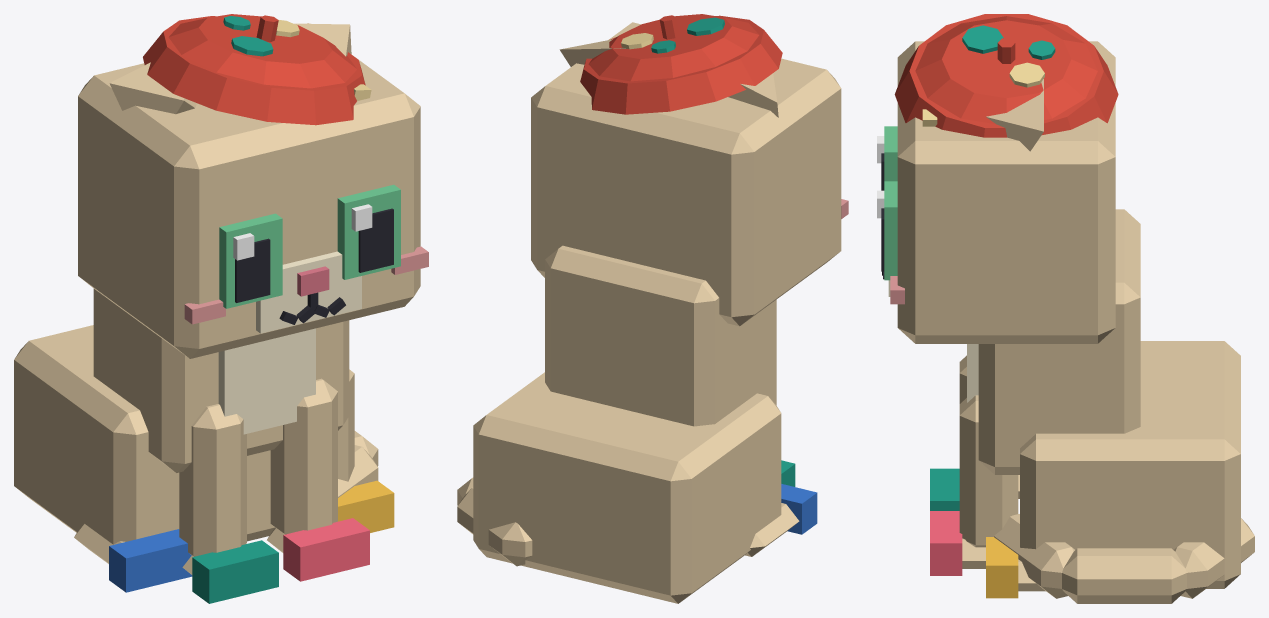
File: CatCafe_Cat_Fold_Sit.glb
The picture shows the model from 3 angles, left to right: view 1: azimuth 30°, elevation 25°; view 2: azimuth 150°, elevation 25°; view 3: azimuth 270°, elevation 25°; orthographic projection. The views are drawn at different scales.
Visible parts, largest first — view 1: CatCafe_Cat_Fold_Sit_Head, CatCafe_Cat_Fold_Sit_Body, CatCafe_Cat_Fold_Sit_Prop, CatCafe_Cat_Fold_Sit_LegF2, CatCafe_Cat_Fold_Sit_LegF1, CatCafe_Cat_Fold_Sit_Eye2, CatCafe_Cat_Fold_Sit_Eye1, CatCafe_Cat_Fold_Sit_EarR, CatCafe_Cat_Fold_Sit_Tail, CatCafe_Cat_Fold_Sit_EarL; view 2: CatCafe_Cat_Fold_Sit_Body, CatCafe_Cat_Fold_Sit_Head, CatCafe_Cat_Fold_Sit_Prop, CatCafe_Cat_Fold_Sit_Tail, CatCafe_Cat_Fold_Sit_EarR, CatCafe_Cat_Fold_Sit_EarL; view 3: CatCafe_Cat_Fold_Sit_Body, CatCafe_Cat_Fold_Sit_Head, CatCafe_Cat_Fold_Sit_Prop, CatCafe_Cat_Fold_Sit_Tail, CatCafe_Cat_Fold_Sit_LegF1, CatCafe_Cat_Fold_Sit_EarL, CatCafe_Cat_Fold_Sit_Eye1, CatCafe_Cat_Fold_Sit_LegF2, CatCafe_Cat_Fold_Sit_Eye2.
Boxes of the visible parts, bbox=[...] form: CatCafe_Cat_Fold_Sit_Head: bbox=[78, 23, 428, 358]; CatCafe_Cat_Fold_Sit_Body: bbox=[14, 289, 394, 592]; CatCafe_Cat_Fold_Sit_Prop: bbox=[143, 14, 371, 125]; CatCafe_Cat_Fold_Sit_LegF2: bbox=[179, 404, 278, 603]; CatCafe_Cat_Fold_Sit_LegF1: bbox=[267, 378, 369, 581]; CatCafe_Cat_Fold_Sit_Eye2: bbox=[219, 213, 282, 308]; CatCafe_Cat_Fold_Sit_Eye1: bbox=[337, 184, 400, 279]; CatCafe_Cat_Fold_Sit_EarR: bbox=[109, 62, 196, 114]; CatCafe_Cat_Fold_Sit_Tail: bbox=[338, 431, 378, 497]; CatCafe_Cat_Fold_Sit_EarL: bbox=[294, 23, 351, 56]; CatCafe_Cat_Fold_Sit_Body: bbox=[473, 245, 817, 603]; CatCafe_Cat_Fold_Sit_Head: bbox=[531, 22, 848, 326]; CatCafe_Cat_Fold_Sit_Prop: bbox=[580, 14, 782, 114]; CatCafe_Cat_Fold_Sit_Tail: bbox=[457, 477, 532, 566]; CatCafe_Cat_Fold_Sit_EarR: bbox=[728, 73, 778, 117]; CatCafe_Cat_Fold_Sit_EarL: bbox=[559, 39, 626, 66]; CatCafe_Cat_Fold_Sit_Body: bbox=[967, 209, 1240, 598]; CatCafe_Cat_Fold_Sit_Head: bbox=[882, 41, 1115, 343]; CatCafe_Cat_Fold_Sit_Prop: bbox=[894, 14, 1118, 137]; CatCafe_Cat_Fold_Sit_Tail: bbox=[994, 514, 1254, 603]; CatCafe_Cat_Fold_Sit_LegF1: bbox=[930, 395, 1018, 575]; CatCafe_Cat_Fold_Sit_EarL: bbox=[986, 79, 1043, 151]; CatCafe_Cat_Fold_Sit_Eye1: bbox=[877, 181, 897, 280]; CatCafe_Cat_Fold_Sit_LegF2: bbox=[930, 355, 966, 510]; CatCafe_Cat_Fold_Sit_Eye2: bbox=[877, 126, 897, 190].
Bounding box in the file's own units: 1.06 × 1.81 × 1.22.
1 material, 1 textured.
